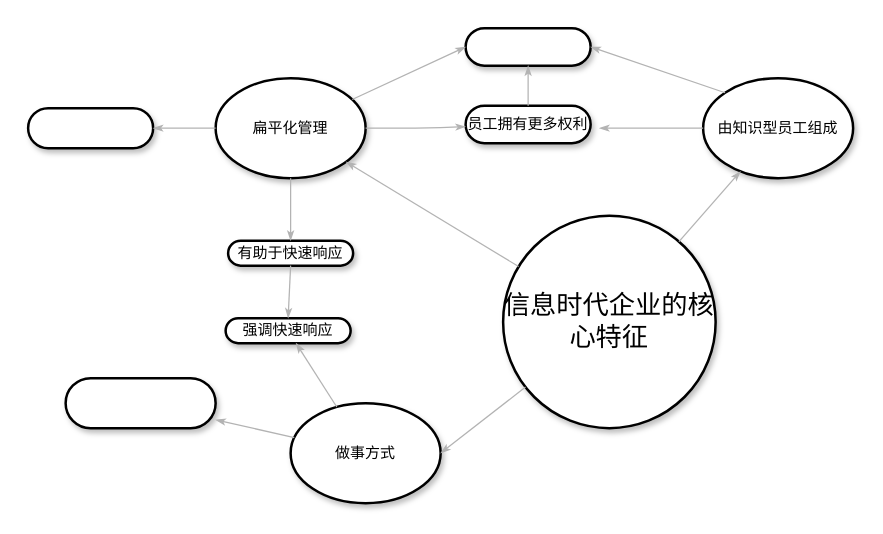
The diagram is 883 pixels wide and 534 high, and some of its shapes have lost their labels. Here are the shapes that lost their labels. From the top down, the centre of each, then its label:
[529,48]: 通过期权进行分配
[91,129]: 限制上级对下级的人事权
[141,404]: 强调入口效应，而不是拥有固定生产资料
